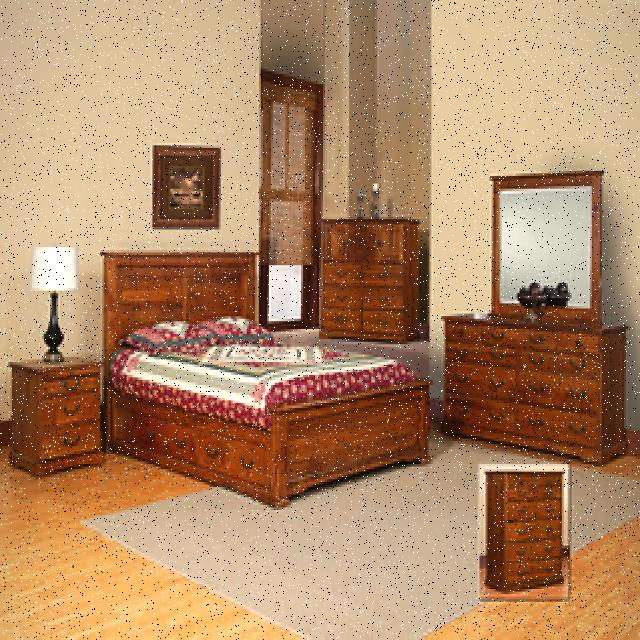bed: (105, 247, 428, 506)
